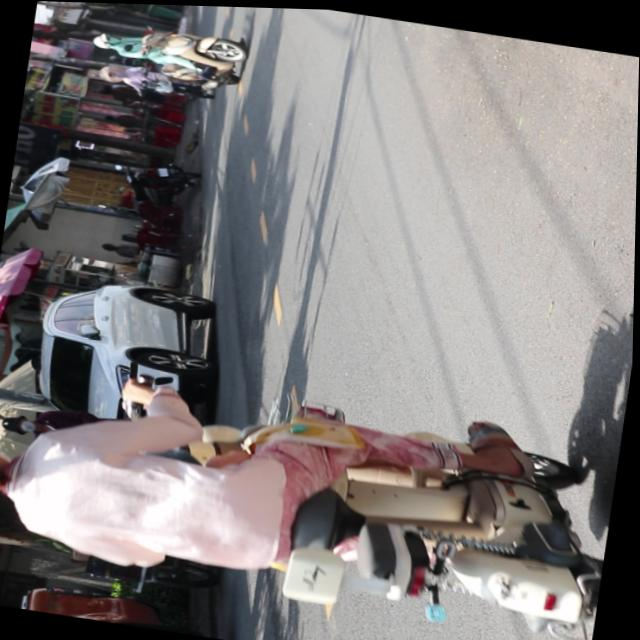helmet: (91, 31, 120, 49)
licenseplate: (0, 343, 624, 640), (87, 13, 249, 88)
motorcyclist: (0, 433, 22, 511)
